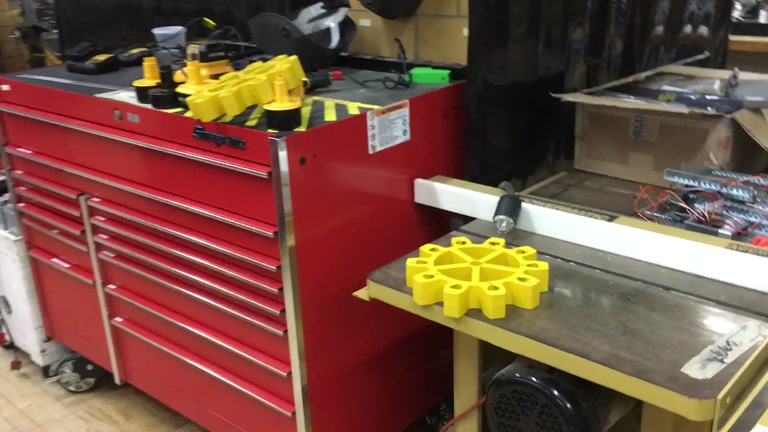gear: (404, 236, 550, 321), (184, 54, 307, 122)
